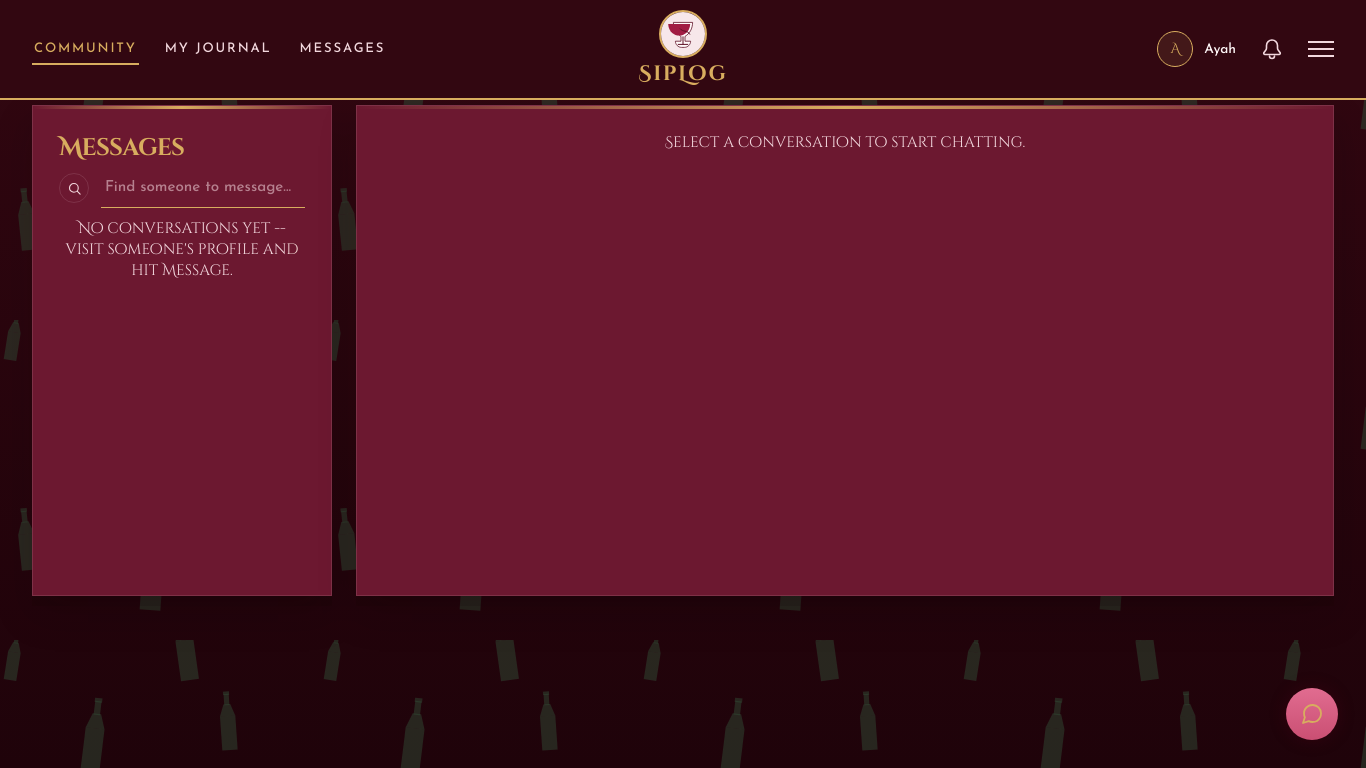
Test case: ChatPage search for someone to message › excludes yourself and shows nothing for an unmatched search
Type "ayah" into the field with placeholder "Find someone to message..." at (203, 188), box [101, 168, 305, 208]
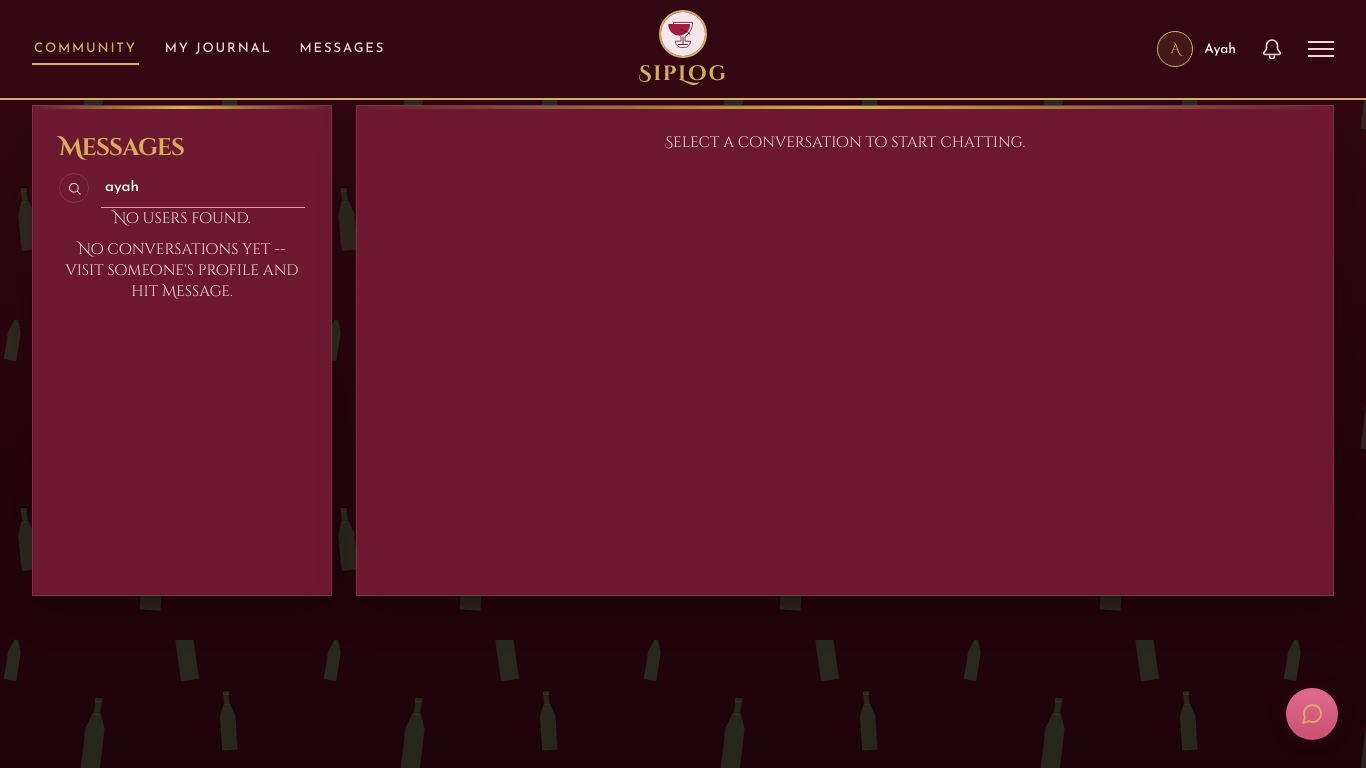
Now the text "No users found." is shown, box [59, 208, 305, 229]
